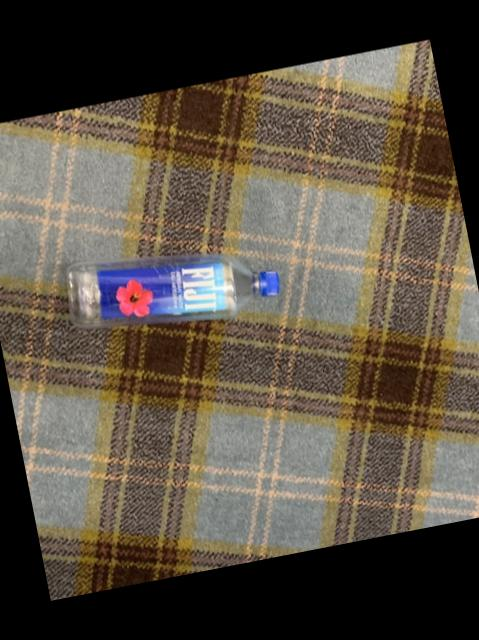plastic: (66, 253, 278, 326)
